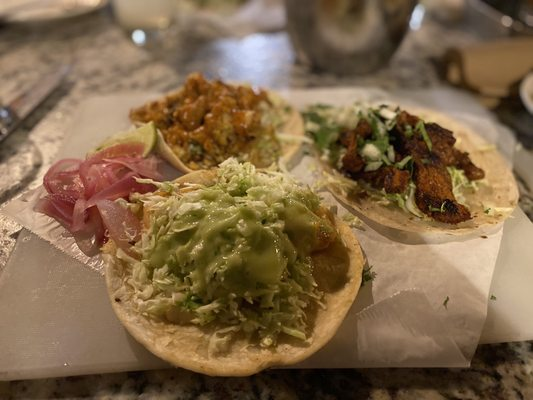soup: (298, 99, 520, 244)
